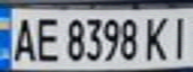3: (81, 15, 106, 63)
8: (63, 15, 87, 63), (118, 15, 142, 62)
9: (103, 15, 124, 62)
A: (6, 12, 39, 64)
E: (30, 13, 63, 64)
I: (163, 11, 193, 61)
K: (142, 12, 172, 62)
